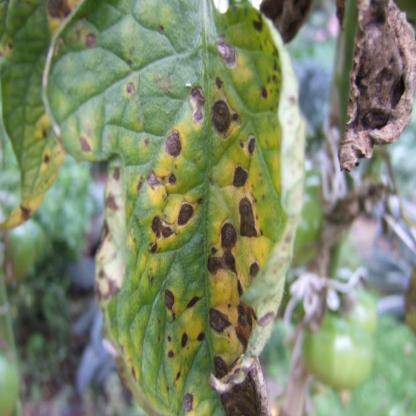Tomato Early blight leaf: (43, 5, 288, 409)
